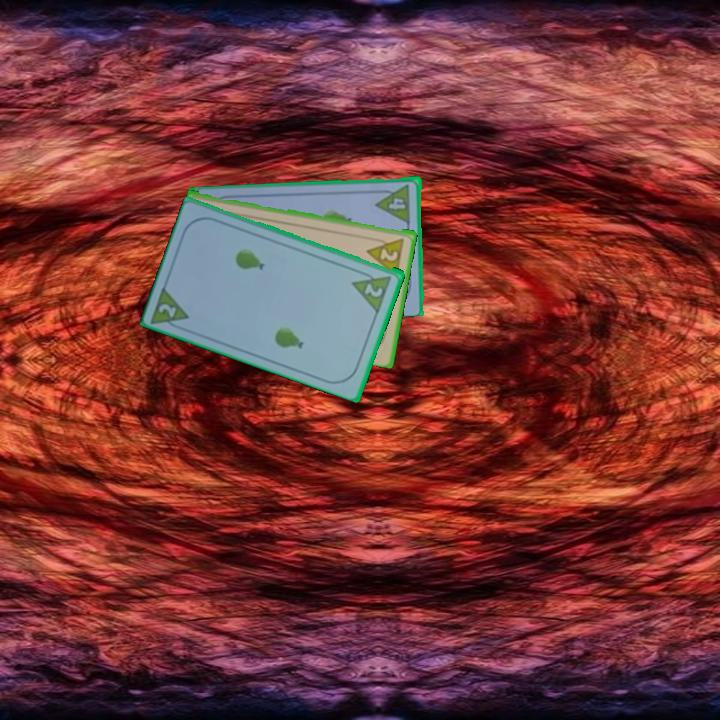2p: (148, 281, 193, 334), (349, 266, 395, 314), (377, 244, 401, 264)
4p: (373, 181, 414, 225)
